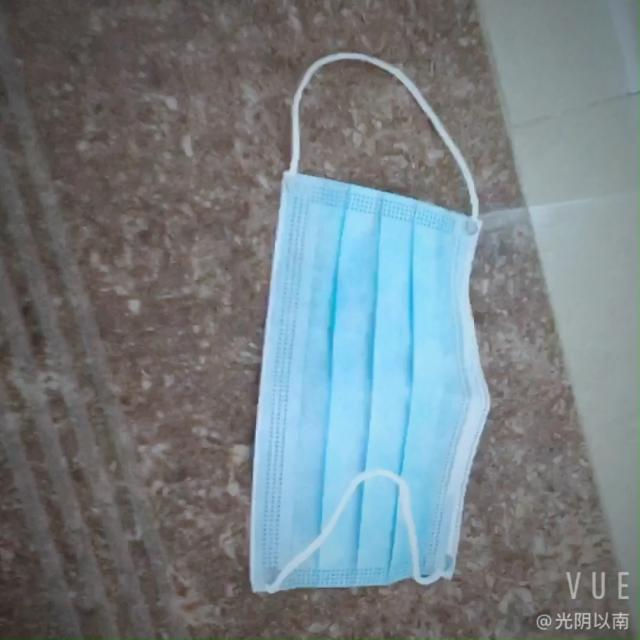non-organic waste: (242, 163, 489, 597)
